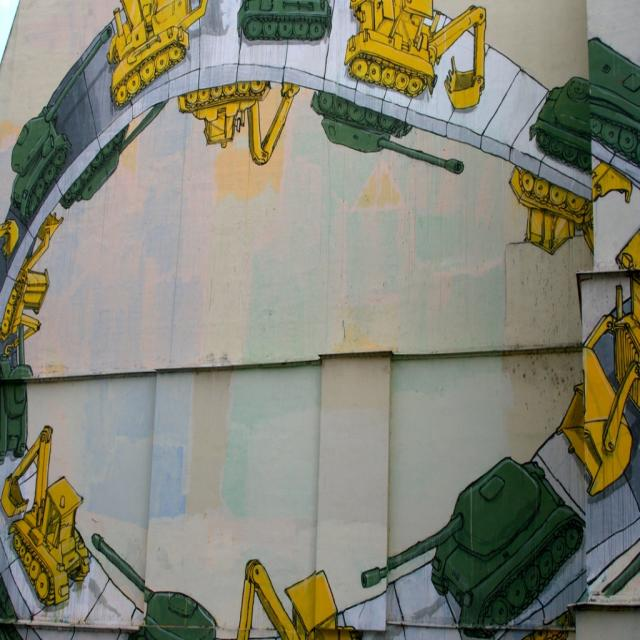tank: (360, 453, 586, 639), (11, 26, 111, 222), (91, 530, 216, 638), (58, 96, 172, 209), (311, 90, 463, 174), (590, 34, 640, 170), (528, 77, 589, 171), (0, 321, 36, 462), (237, 0, 331, 41), (597, 550, 639, 597)
